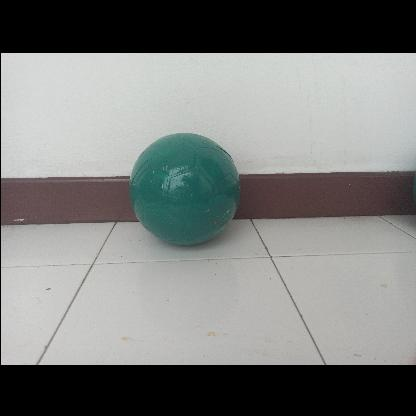green_ball: (130, 130, 242, 242)
